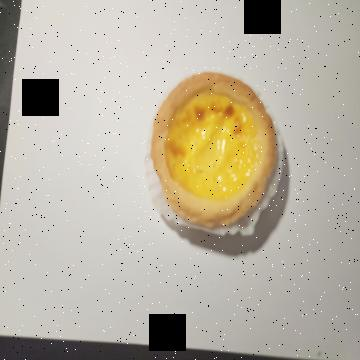EggTart: (151, 72, 277, 226)
